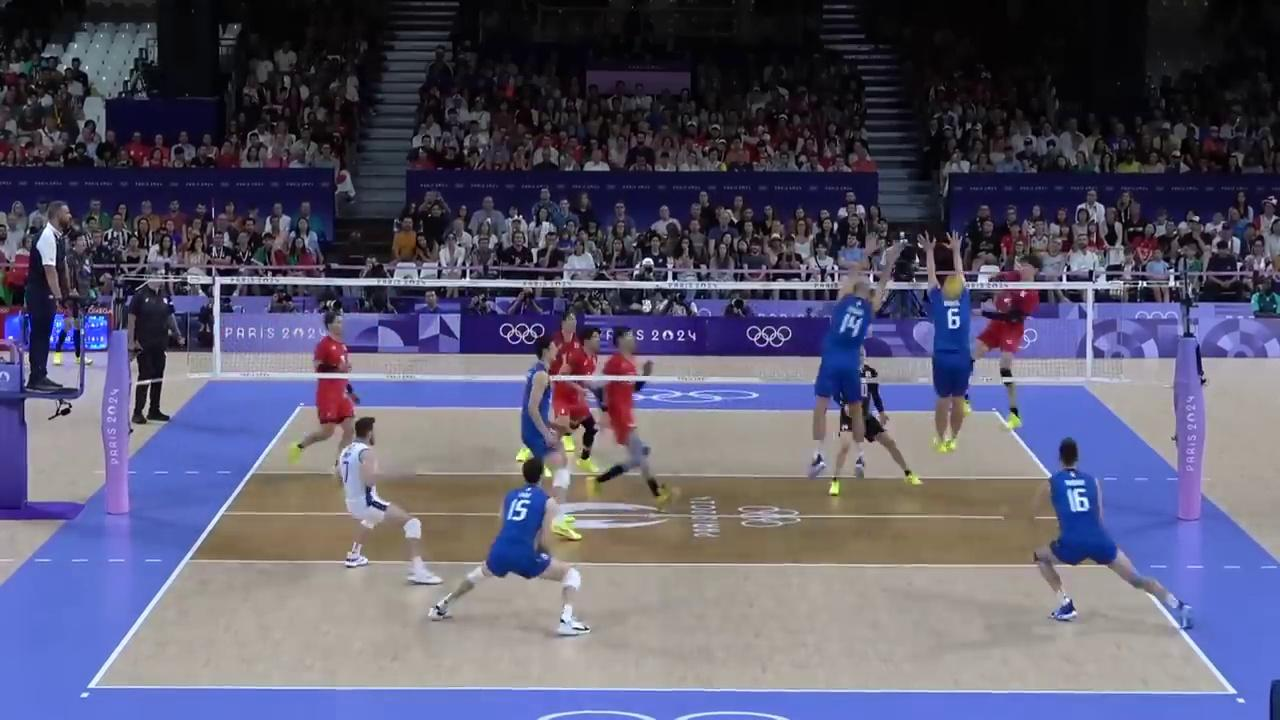ball: (942, 275, 963, 298)
